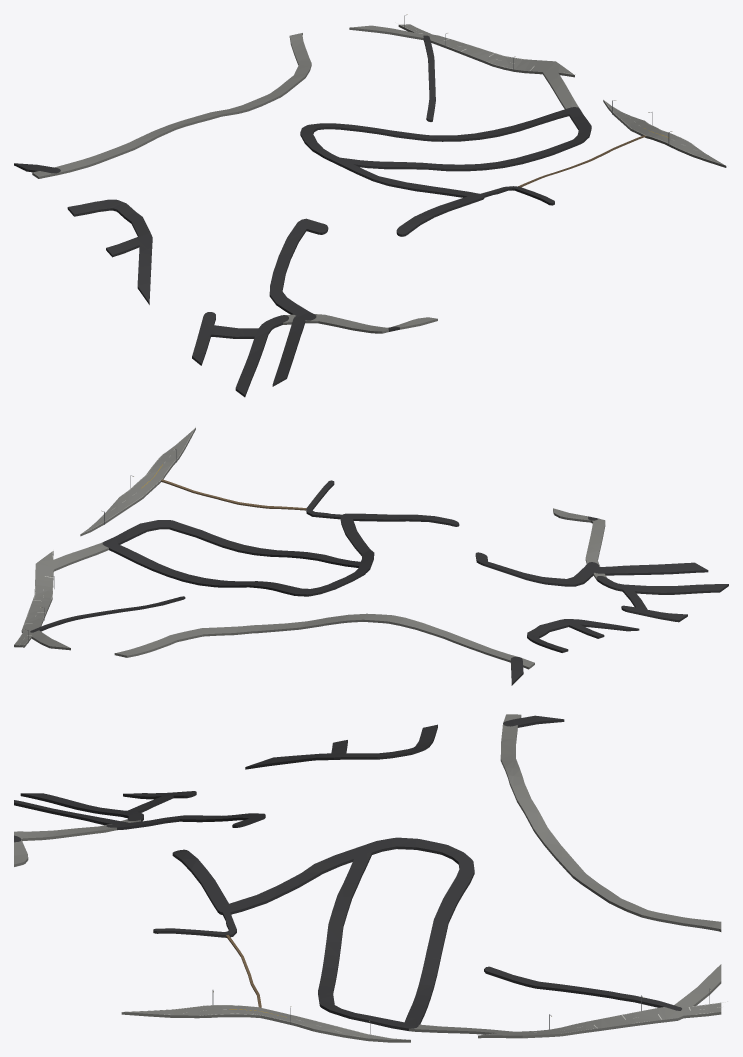
Rendered from 17-109426-59471.f36dbd15.glb.
3 views of the same model, one above another, from view 1: azimuth 30°, elevation 25°; view 2: azimuth 150°, elevation 25°; view 3: azimuth 270°, elevation 25° (orthographic). The views are drawn at different scales.
Size of the model in its own units: 294 by 45.51 by 295.
